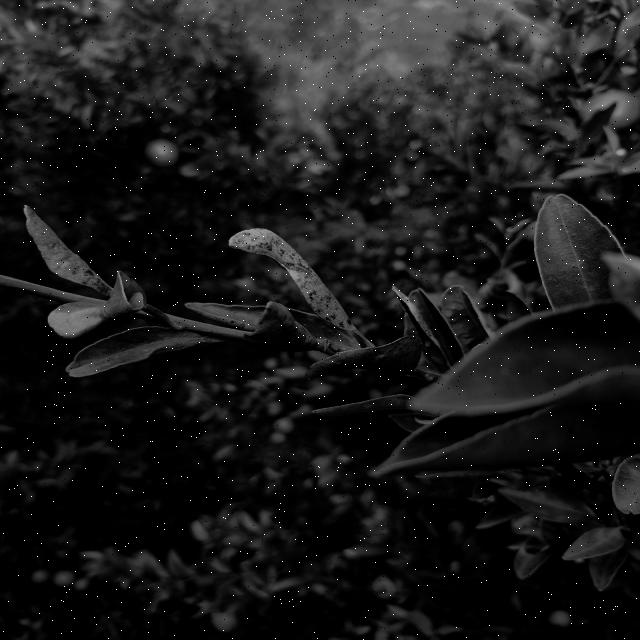melanose: (225, 224, 385, 344), (10, 199, 132, 309)
